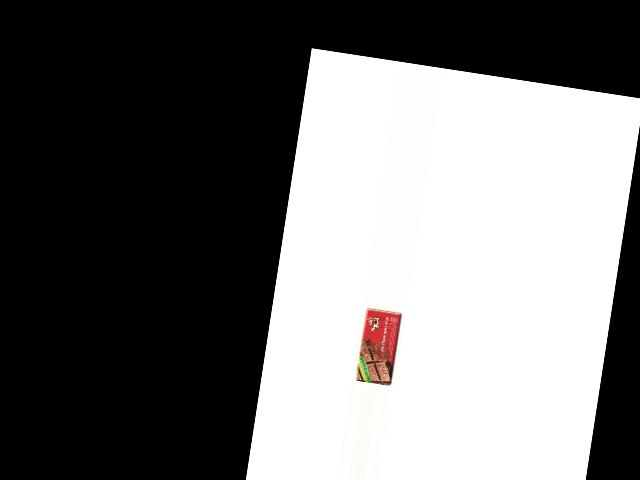chocolate: (354, 306, 403, 386)
